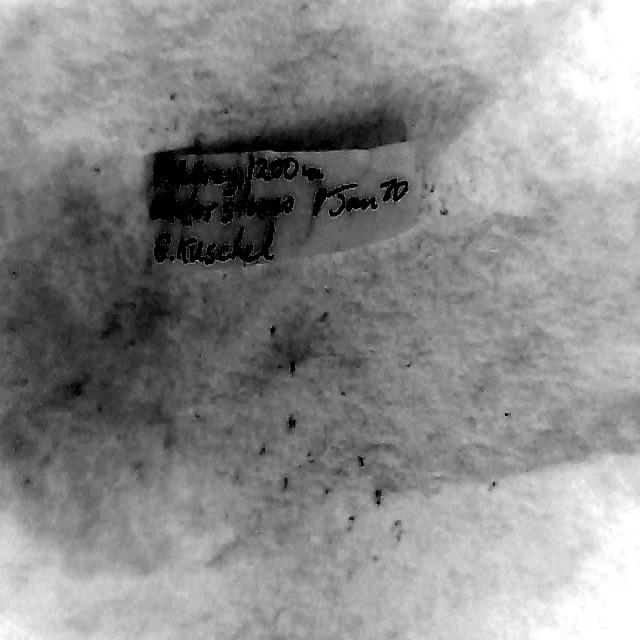hand_label: (150, 142, 420, 267)
